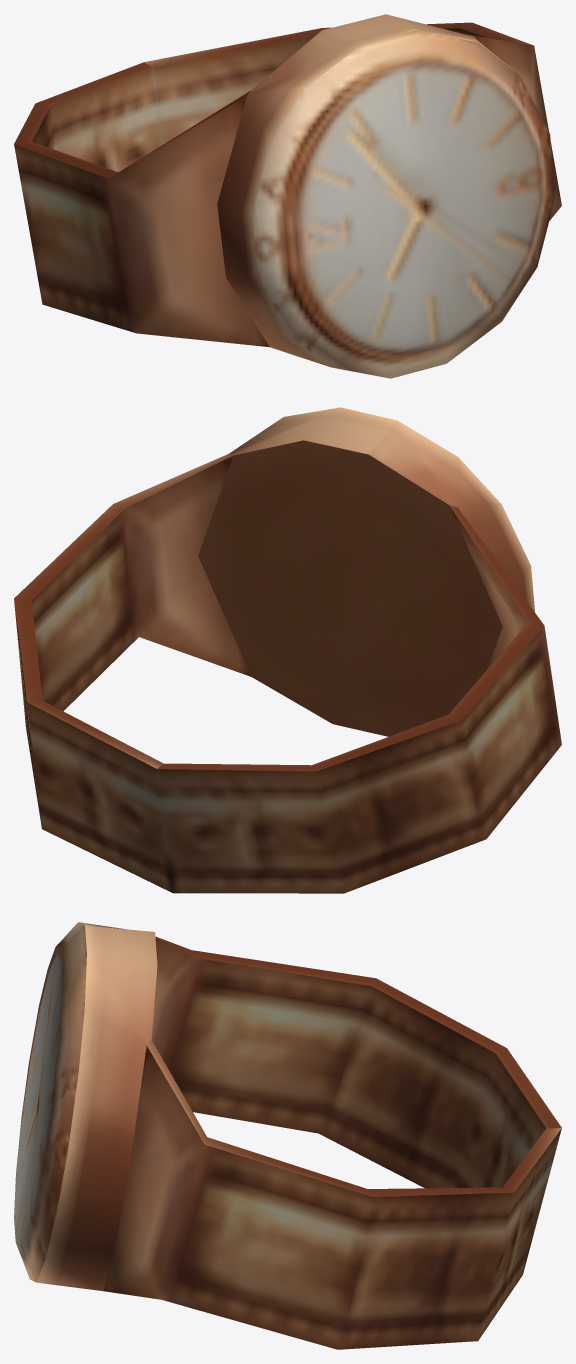
The model's file is JiaoWaiSenLin_shoubiao_01.FBX.
The picture shows the model from 3 angles, top to bottom: view 1: azimuth 30°, elevation 25°; view 2: azimuth 150°, elevation 25°; view 3: azimuth 270°, elevation 25°; orthographic projection. The views are drawn at different scales.
Visible parts, largest first — view 1: Object029; view 2: Object029; view 3: Object029.
Boxes of the visible parts, <box> form: Object029: <box>14,14,561,378</box>; Object029: <box>14,407,561,893</box>; Object029: <box>14,922,561,1349</box>.
Size of the model in its own units: 47.67 by 32.66 by 47.41.
